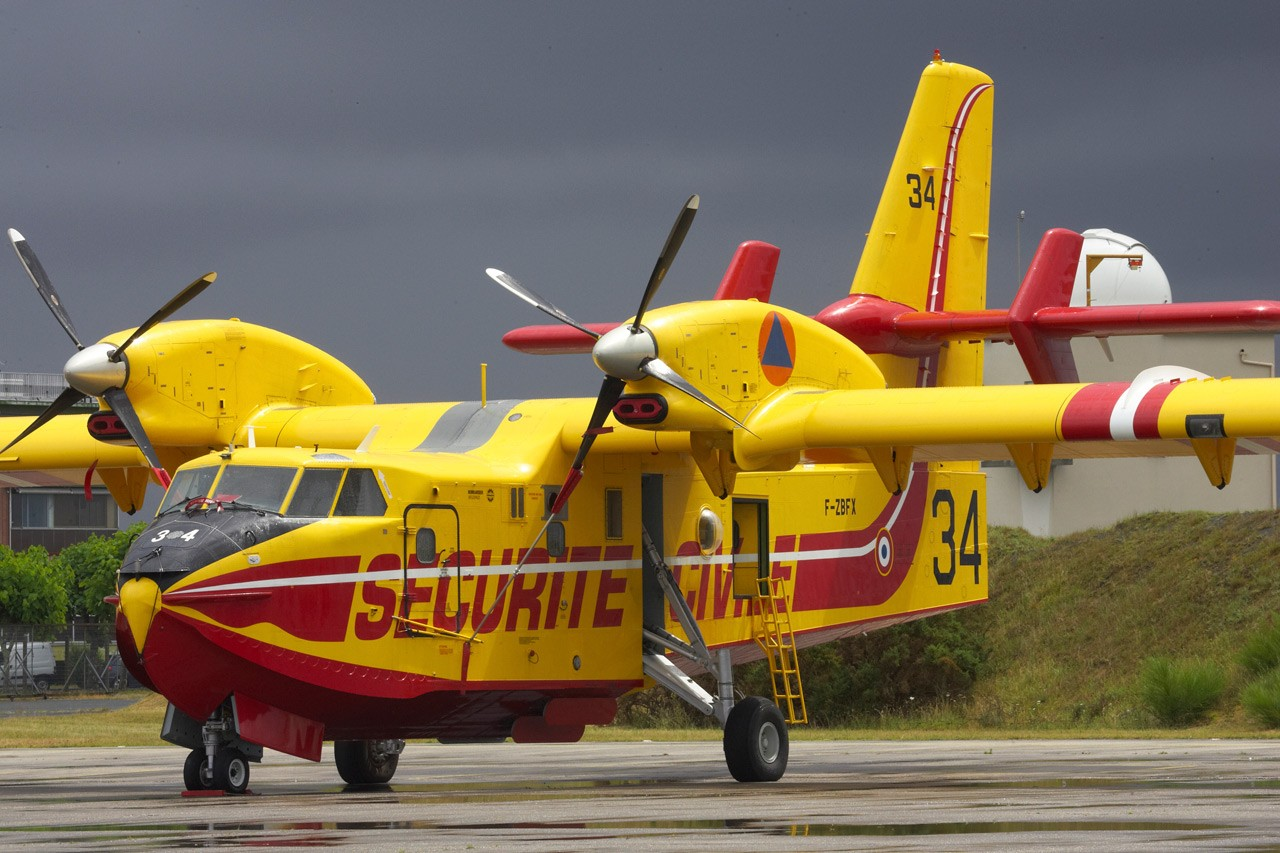Aeronef_de_service: (1, 37, 1280, 802)
